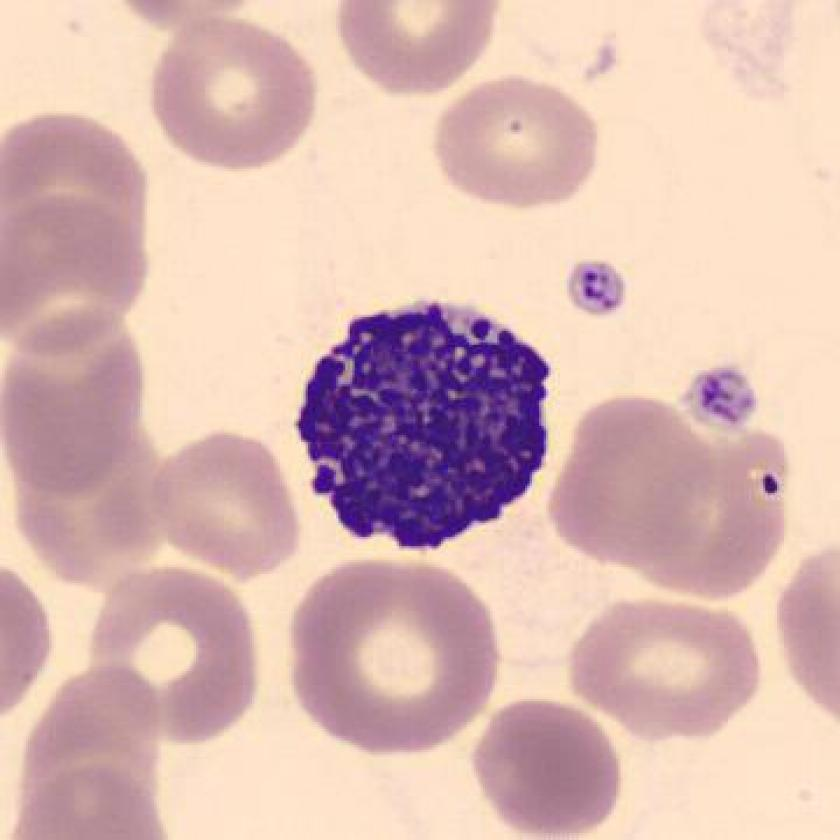basophil: (293, 290, 559, 566)
